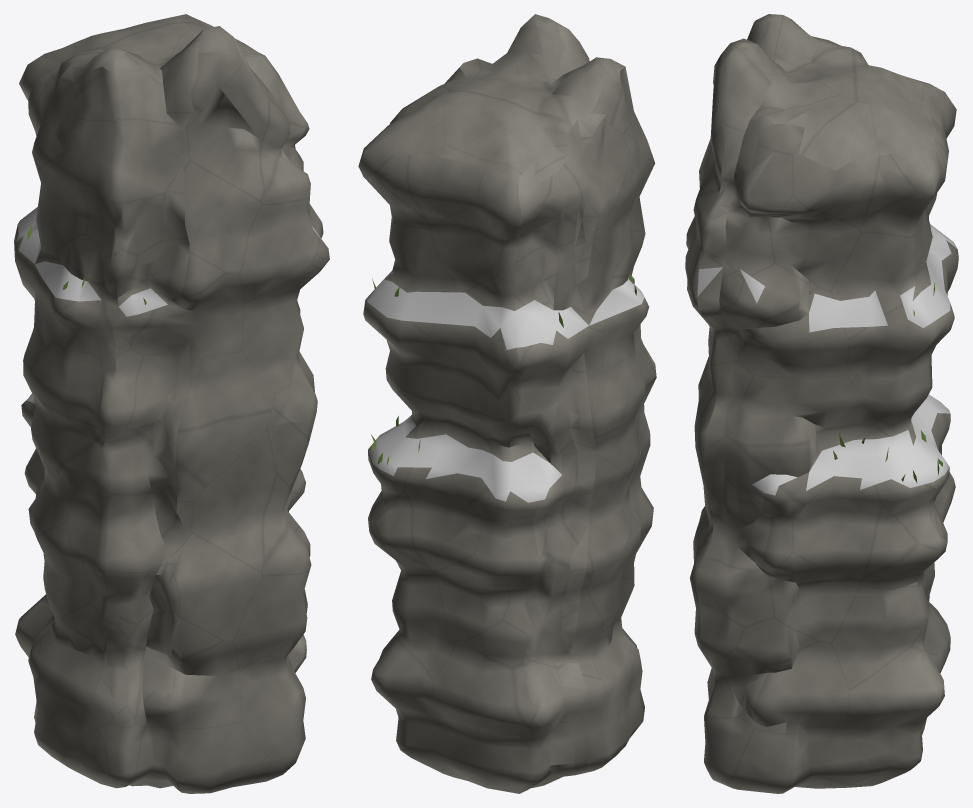
Rendered from Furn_Cliff2_Corner.fbx.
3 views of the same model, side by side, from view 1: azimuth 30°, elevation 25°; view 2: azimuth 150°, elevation 25°; view 3: azimuth 270°, elevation 25° (orthographic). The views are drawn at different scales.
Parts seen in each view (by area): view 1: Furn_Cliff2_Corner; view 2: Furn_Cliff2_Corner; view 3: Furn_Cliff2_Corner.
Part boxes in pixels (left/top/right/bottom): Furn_Cliff2_Corner: left=14, top=14, right=329, bottom=793; Furn_Cliff2_Corner: left=358, top=14, right=656, bottom=793; Furn_Cliff2_Corner: left=685, top=14, right=958, bottom=793.
Size of the model in its own units: 7 by 20.93 by 7.
